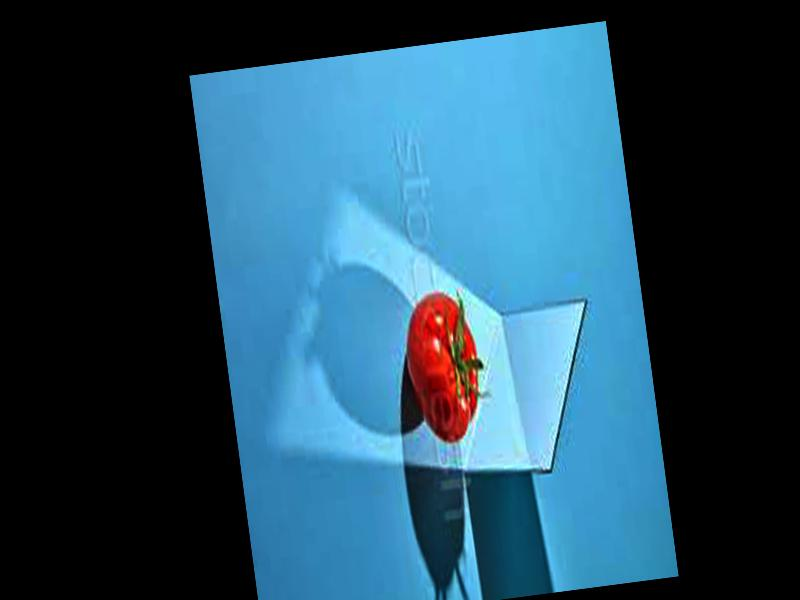Tomato: (398, 289, 487, 447)
